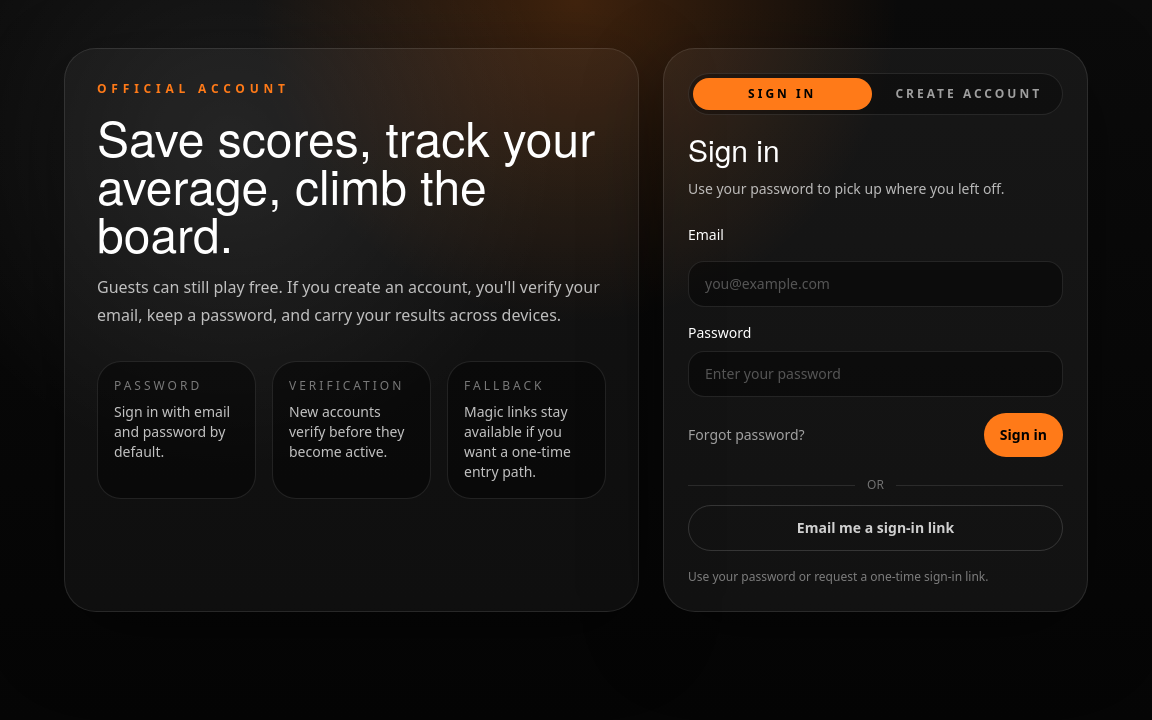
Test: LoginForm › keeps non-enumeration OTP failures visible
The image size is (1152, 720).
Type "player@example.com" into the field labelled "Email" at (876, 284), box [688, 261, 1063, 307]
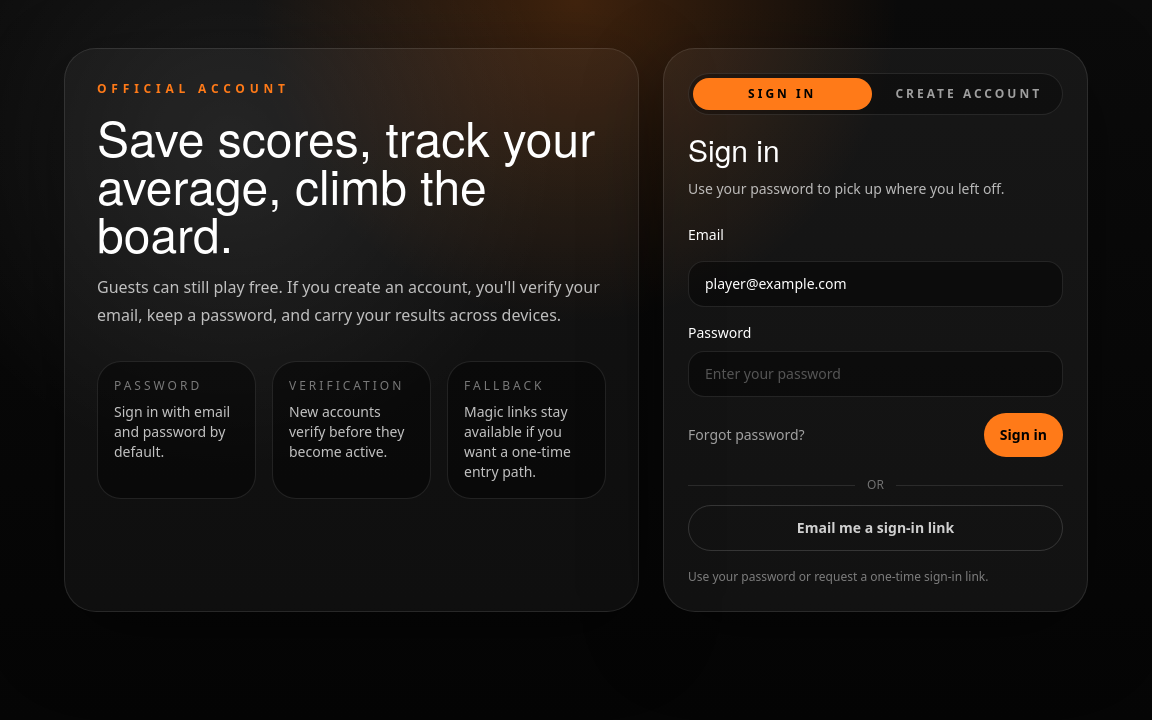
Click the button "Email me a sign-in link" at (876, 528), box [688, 505, 1063, 551]
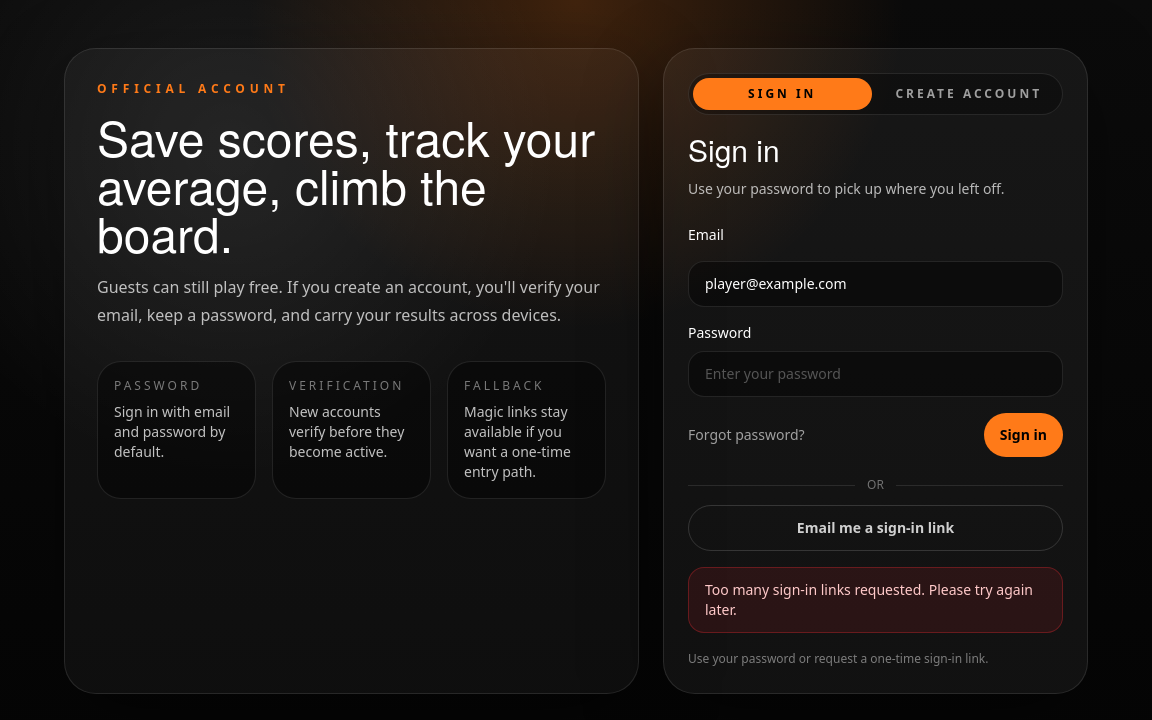
Now the text "Too many sign-in links requested. Please try again later." is shown, box [688, 567, 1063, 633]
